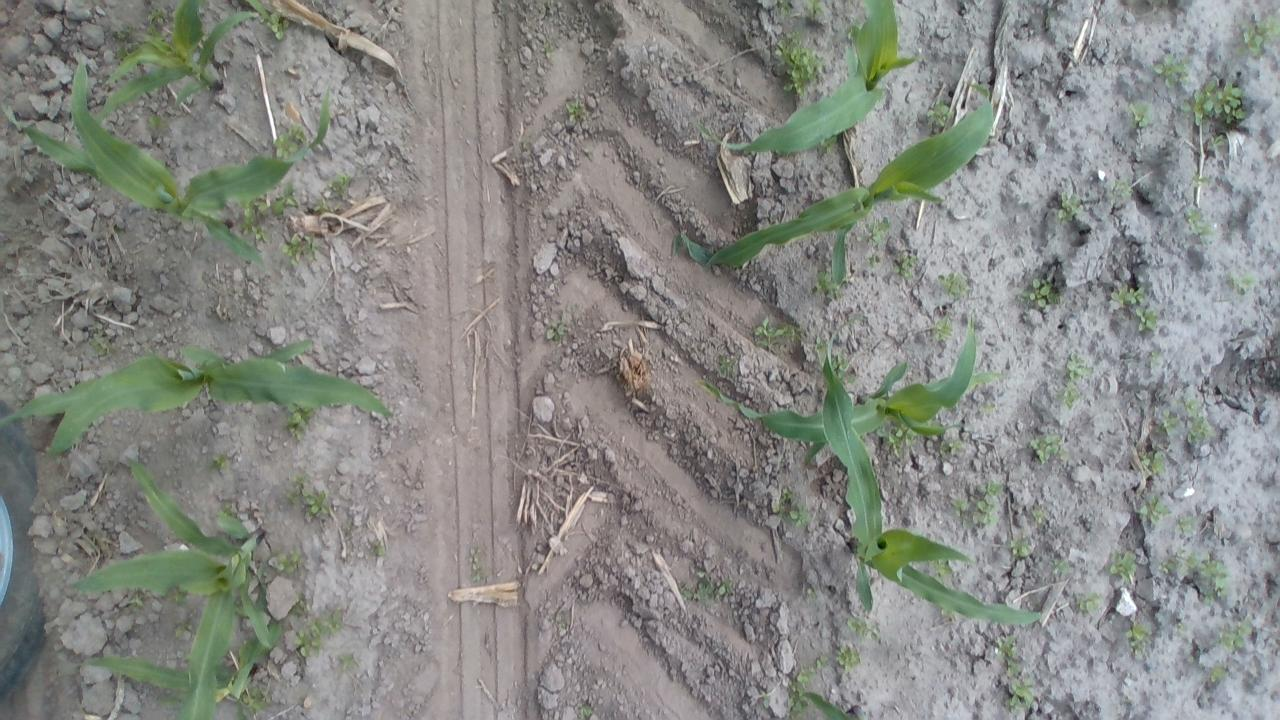Maize: (672, 75, 998, 292), (17, 67, 337, 272), (824, 352, 1050, 631), (65, 449, 282, 720), (700, 313, 1016, 472), (9, 334, 400, 460), (698, 0, 922, 154), (96, 2, 266, 136), (76, 614, 290, 720), (799, 684, 861, 720)
Weeds: (1162, 549, 1228, 603), (774, 29, 824, 96), (996, 632, 1034, 716), (1182, 81, 1248, 127), (676, 571, 734, 604), (751, 315, 800, 348), (1240, 14, 1276, 56), (1022, 276, 1063, 310), (972, 480, 1001, 526), (1152, 52, 1190, 86), (236, 679, 270, 717), (1026, 432, 1064, 464), (784, 680, 813, 720), (1136, 491, 1169, 526), (1220, 618, 1255, 650), (1105, 548, 1137, 582), (1183, 207, 1214, 242), (239, 201, 267, 239), (282, 234, 317, 264), (273, 126, 305, 158), (882, 426, 913, 459), (1140, 446, 1170, 478), (1186, 413, 1216, 445), (937, 270, 971, 298), (832, 354, 859, 389), (287, 403, 312, 439), (1065, 350, 1091, 384), (274, 182, 300, 216), (1109, 285, 1146, 308), (1125, 622, 1155, 650), (1126, 98, 1154, 128), (926, 98, 956, 126), (262, 7, 288, 38), (144, 2, 168, 35), (846, 614, 878, 638), (865, 217, 893, 244), (1056, 190, 1081, 220), (304, 488, 329, 518), (892, 253, 918, 280), (786, 500, 813, 526), (296, 627, 320, 656), (814, 270, 838, 299), (930, 315, 956, 341), (834, 644, 861, 669), (1134, 306, 1158, 334), (811, 332, 828, 369), (276, 551, 302, 575), (318, 611, 344, 635), (328, 173, 353, 197), (1156, 409, 1180, 434), (1174, 513, 1198, 537), (468, 544, 483, 582), (1229, 272, 1257, 292), (773, 485, 796, 509), (1060, 383, 1079, 412), (1009, 536, 1032, 557), (313, 198, 337, 218), (547, 318, 567, 342), (564, 99, 585, 121), (802, 0, 823, 22), (1112, 178, 1132, 201), (754, 686, 773, 710), (1074, 592, 1098, 611), (288, 595, 308, 617), (124, 594, 148, 612), (90, 337, 112, 356), (1182, 393, 1200, 416), (289, 476, 306, 500), (110, 22, 132, 40), (794, 666, 816, 684), (173, 618, 192, 638), (1031, 505, 1049, 526), (933, 558, 954, 576), (582, 142, 598, 165), (146, 114, 165, 133), (538, 40, 556, 60), (818, 136, 838, 154), (941, 438, 963, 454), (774, 0, 792, 19), (1193, 172, 1212, 190), (114, 41, 134, 58), (1210, 664, 1228, 682), (170, 588, 189, 605), (951, 496, 968, 515), (978, 402, 1001, 416), (940, 608, 959, 624), (718, 356, 734, 375), (518, 132, 534, 150), (804, 586, 822, 602), (1052, 558, 1070, 574), (292, 474, 308, 492), (845, 24, 859, 43), (341, 654, 358, 669), (220, 504, 237, 518), (372, 541, 386, 558), (867, 252, 883, 266), (578, 704, 594, 718), (1173, 618, 1187, 634), (554, 614, 568, 630), (213, 454, 230, 467), (1212, 134, 1226, 149), (814, 656, 830, 668), (1148, 350, 1160, 364)
